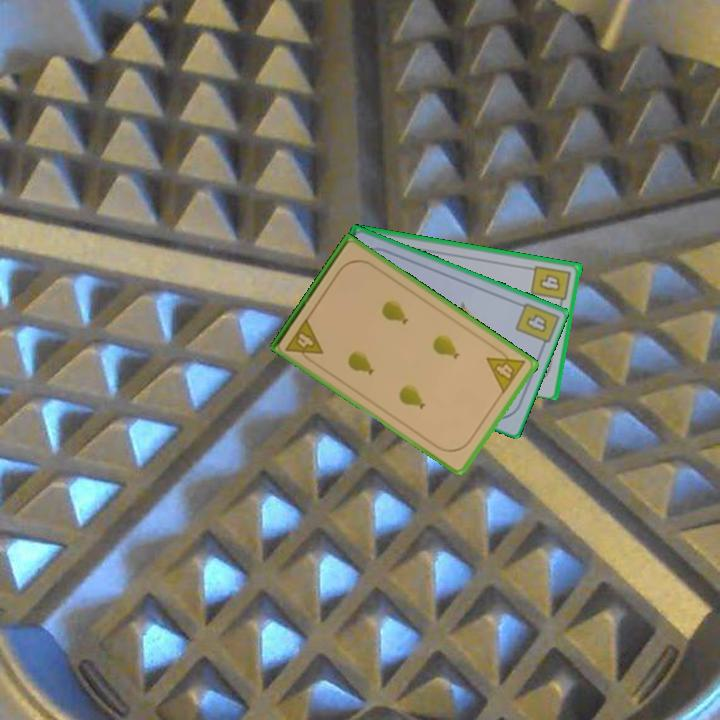4b: (528, 262, 574, 309), (522, 310, 551, 335)
4p: (483, 343, 528, 396), (282, 314, 326, 367)
